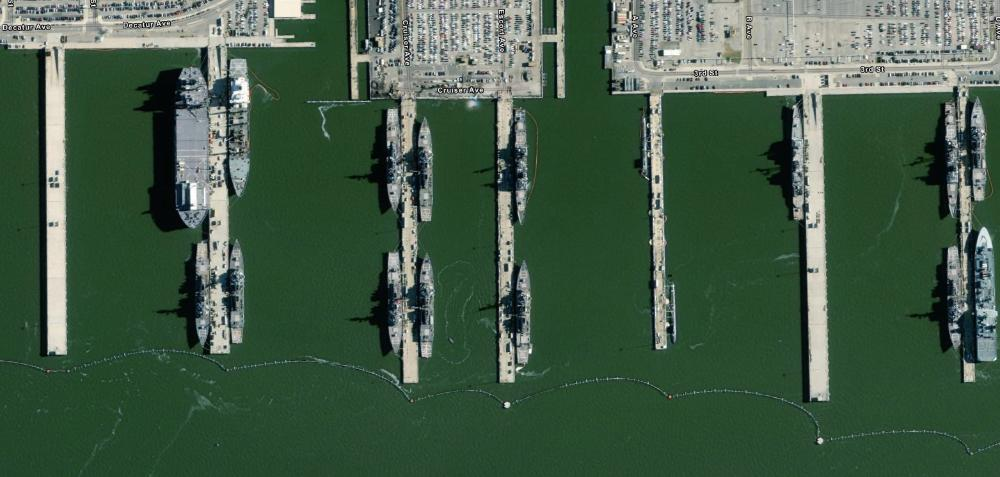cruiser: (511, 105, 532, 229), (790, 103, 811, 226)
fregate: (415, 114, 440, 229), (192, 240, 217, 349), (942, 97, 963, 221), (382, 247, 405, 360), (514, 262, 537, 371), (381, 105, 402, 214), (419, 248, 439, 362), (947, 245, 968, 349), (971, 95, 990, 206), (229, 235, 247, 350)
submarine: (637, 103, 653, 180), (670, 280, 680, 344)
supply: (172, 64, 212, 233)
tender: (226, 53, 255, 201)
